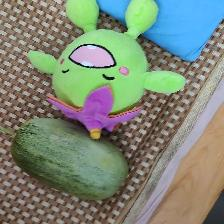gua: (26, 124, 119, 192)
